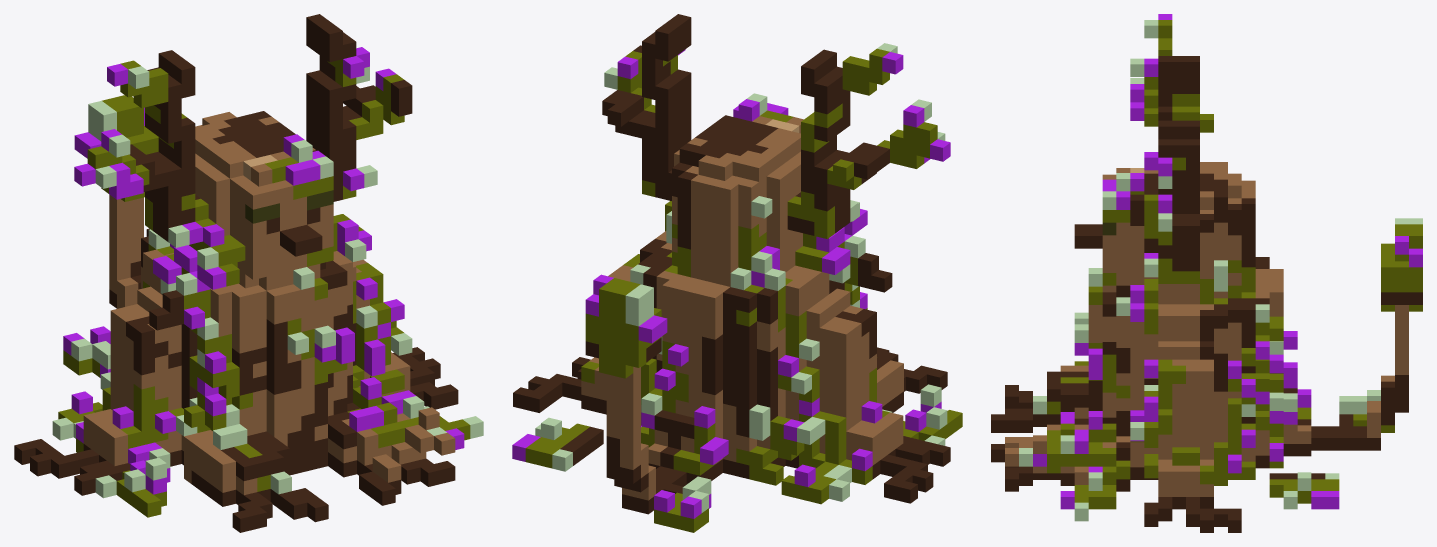
The model's file is Matilde_Bermúdez_Baquero_fase_4.obj.
The picture shows the model from 3 angles, left to right: view 1: azimuth 30°, elevation 25°; view 2: azimuth 150°, elevation 25°; view 3: azimuth 270°, elevation 25°; orthographic projection. The views are drawn at different scales.
Visible parts, largest first — view 1: Matilde_Bermúdez_Baquero_fase_4; view 2: Matilde_Bermúdez_Baquero_fase_4; view 3: Matilde_Bermúdez_Baquero_fase_4.
Part boxes in pixels (bbox=[...]): Matilde_Bermúdez_Baquero_fase_4: bbox=[14, 14, 483, 532]; Matilde_Bermúdez_Baquero_fase_4: bbox=[512, 14, 962, 532]; Matilde_Bermúdez_Baquero_fase_4: bbox=[991, 14, 1422, 532].
Bounding box in the file's own units: 30 × 29 × 31.
1 material, 1 textured.
